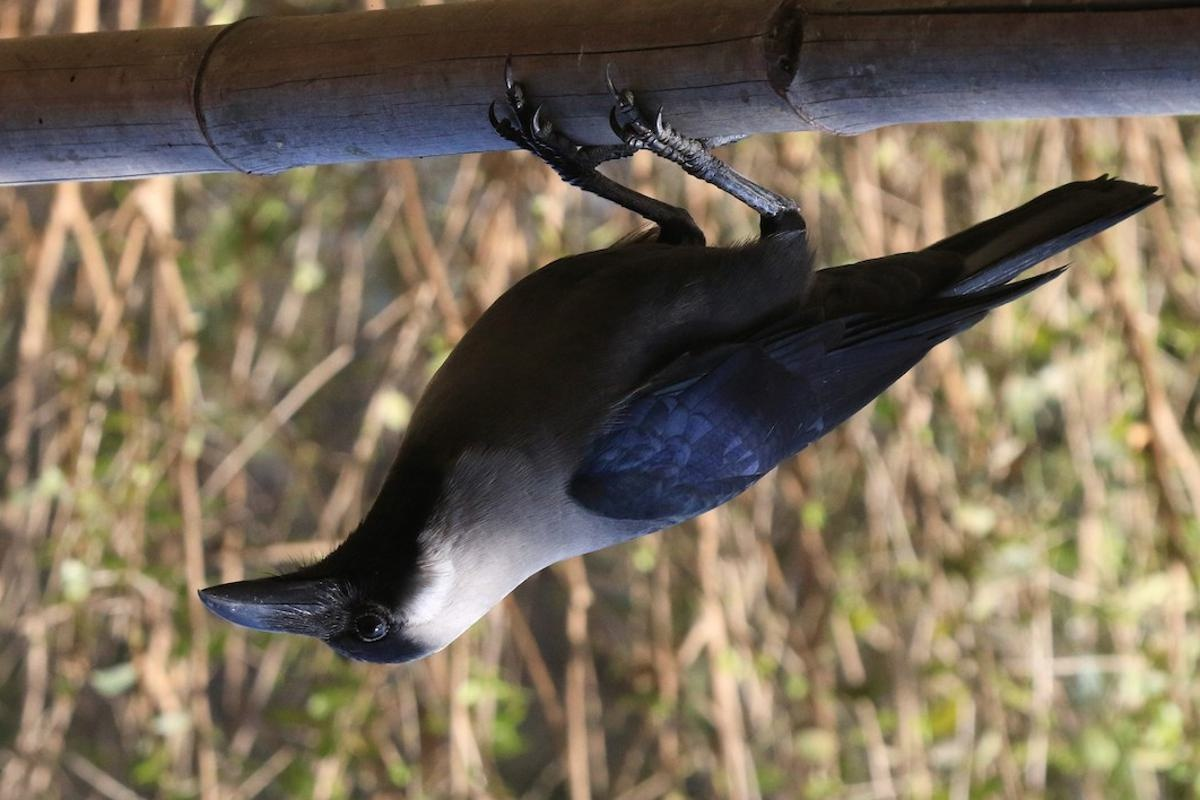crow: (195, 125, 1161, 665)
